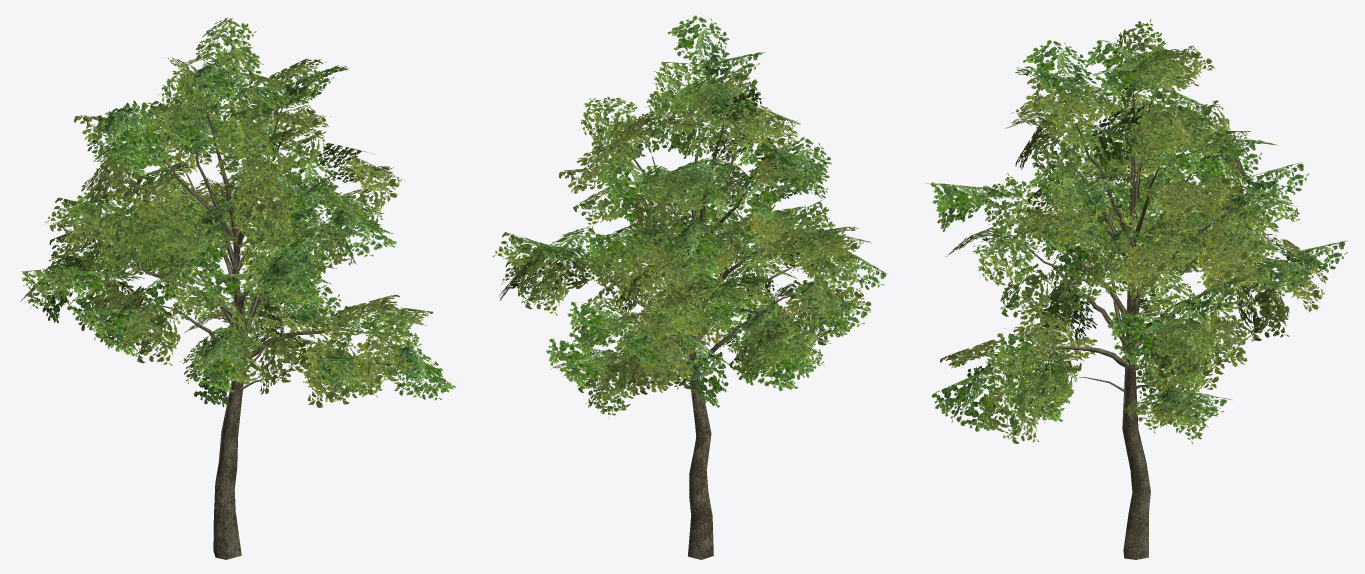
The model's file is tree_01.dae.
3 renders of one model, left to right at view 1: azimuth 30°, elevation 25°; view 2: azimuth 150°, elevation 25°; view 3: azimuth 270°, elevation 25°, orthographic. The views are drawn at different scales.
Visible parts, largest first — view 1: polySurface1042, polySurface457; view 2: polySurface1042, polySurface457; view 3: polySurface1042, polySurface457.
Boxes of the visible parts, box(x1,y1,x2,y2) form: polySurface1042: box(20, 17, 455, 407); polySurface457: box(99, 102, 367, 559); polySurface1042: box(492, 15, 887, 418); polySurface457: box(572, 117, 801, 559); polySurface1042: box(925, 19, 1347, 443); polySurface457: box(1017, 87, 1255, 559).
Bounding box in the file's own units: 15.24 × 20.59 × 15.51.
2 materials, 2 textured.
